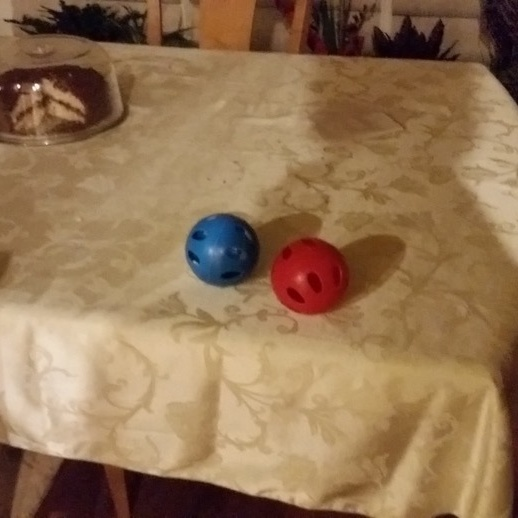blueball: (182, 210, 263, 288)
redball: (268, 234, 352, 316)
